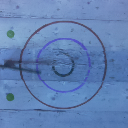Axe Tip: (1, 64, 14, 67)
